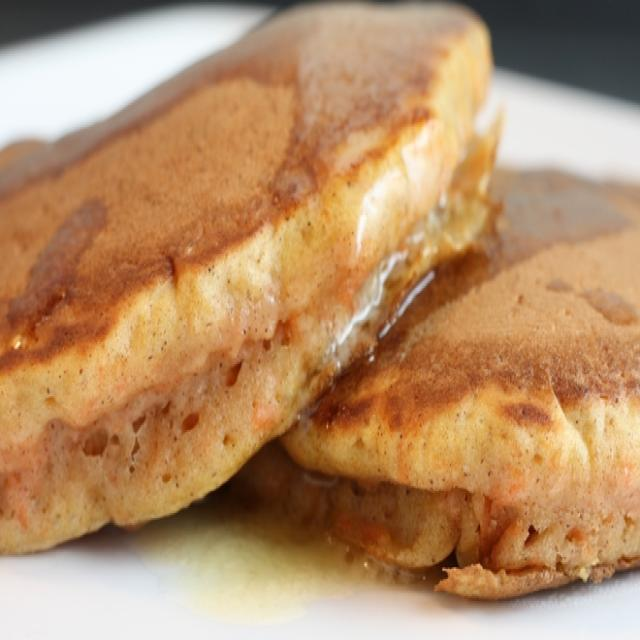蛋糕甜品: (2, 2, 635, 620)
